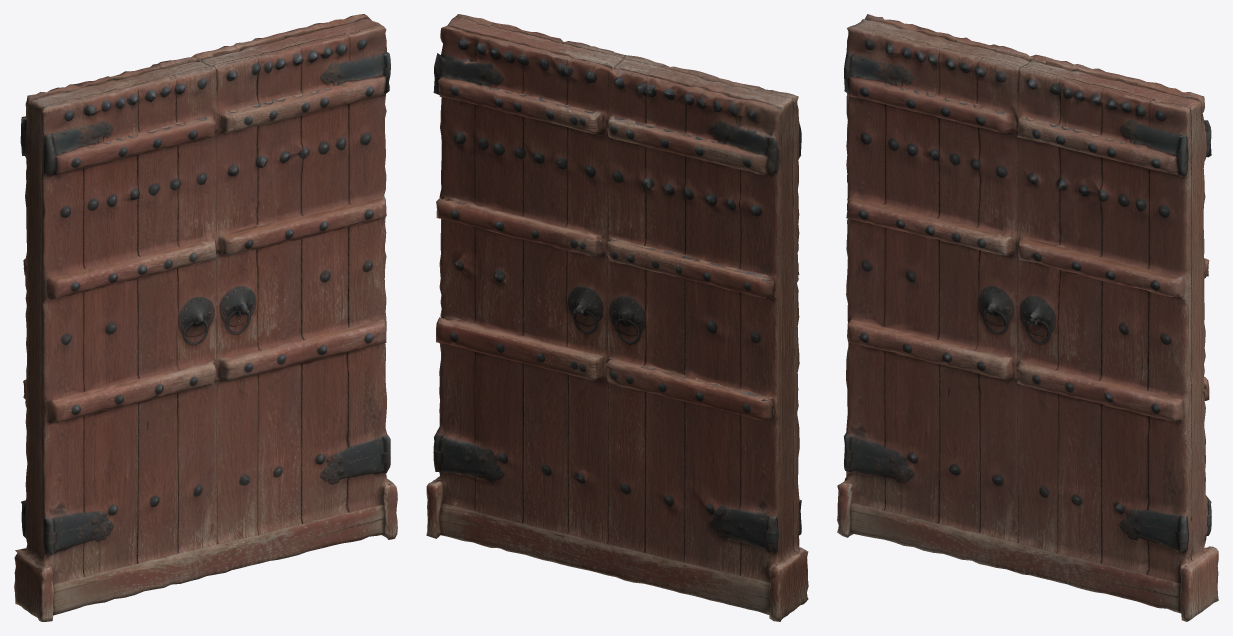
File: yjdoor.fbx
3 renders of one model, left to right at view 1: azimuth 30°, elevation 25°; view 2: azimuth 150°, elevation 25°; view 3: azimuth 330°, elevation 25°, orthographic.
Parts seen in each view (by area): view 1: texture_mapping; view 2: texture_mapping; view 3: texture_mapping.
Boxes of the visible parts, x1,y1,x2,y2 form: texture_mapping: (14,14,397,621); texture_mapping: (426,14,808,621); texture_mapping: (837,14,1218,621).
Size of the model in its own units: 0.7282 by 0.1359 by 0.9989.
Materials: 1 (1 with a texture image).
